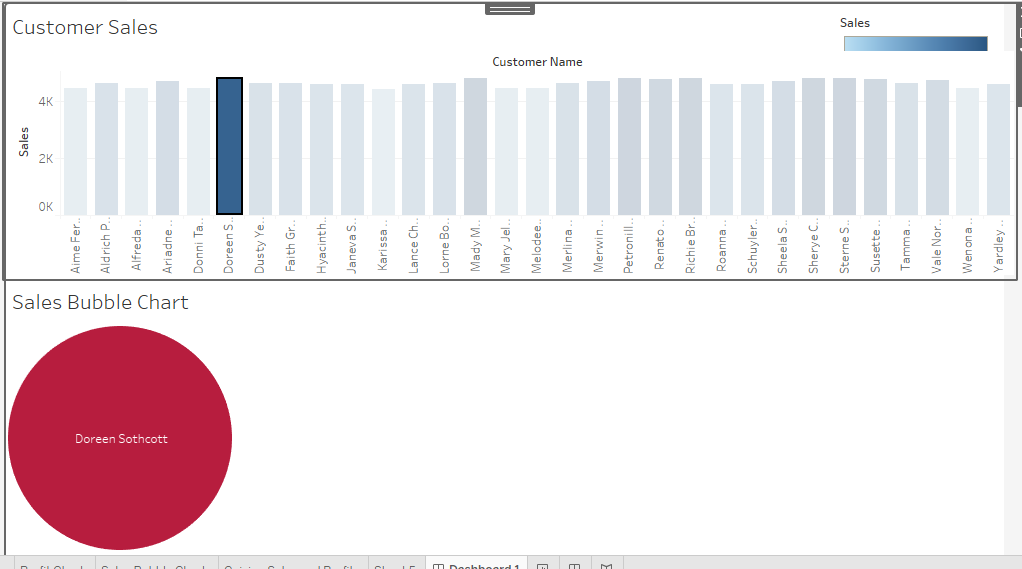

The dashboard page shown, as its layout file describes it:
{"tool":"tableau","page":{"name":"Dashboard 1","canvas":[1000,800],"ordinal":0},"visuals":[{"type":"legend","title":"Customer Sales","param":"[federated.1g6zwqx1rsaa8s13ko7x81paudcf].[sum:Sales:qk]","box":[832,8,160,65]},{"type":"legend","title":"Sales Bubble Chart","param":"[federated.1g6zwqx1rsaa8s13ko7x81paudcf].[sum:Calculation_333547877454434304:qk]","box":[832,73,160,65]}]}

Visuals, with their boxes on the page's 1000x800 design canvas (x1, y1, x2, y2). These are canvas units, not pixel positions in the 1022x569 screenshot, which may show the page scaled, cropped or inside an application window:
"Customer Sales" legend: bbox=(832, 8, 992, 73)
"Sales Bubble Chart" legend: bbox=(832, 73, 992, 138)
